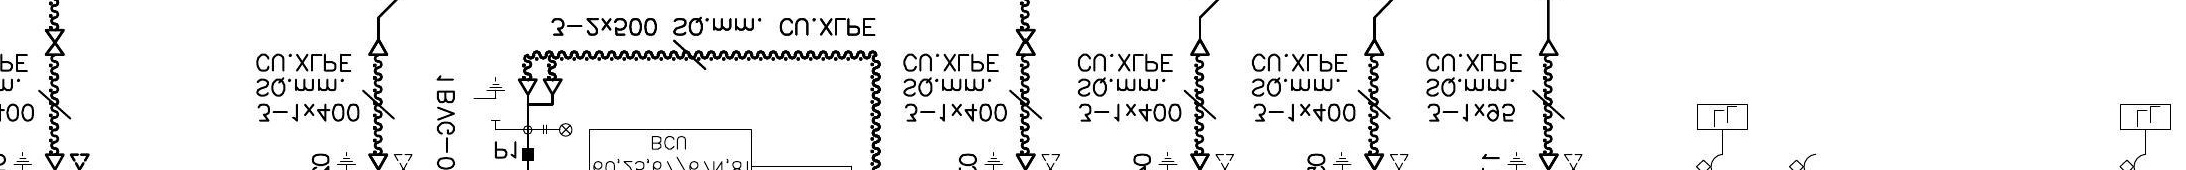22_gs: (473, 77, 506, 123)
22_ll: (542, 123, 573, 138)
LL: (1695, 102, 1751, 131), (2118, 103, 2172, 131)
terminator_double: (517, 78, 563, 107)
terminator_single: (1538, 39, 1560, 57), (1363, 39, 1386, 57), (1189, 39, 1212, 57), (367, 39, 389, 57)
terminator_splicing_kits: (45, 28, 66, 57), (1015, 29, 1036, 57)
